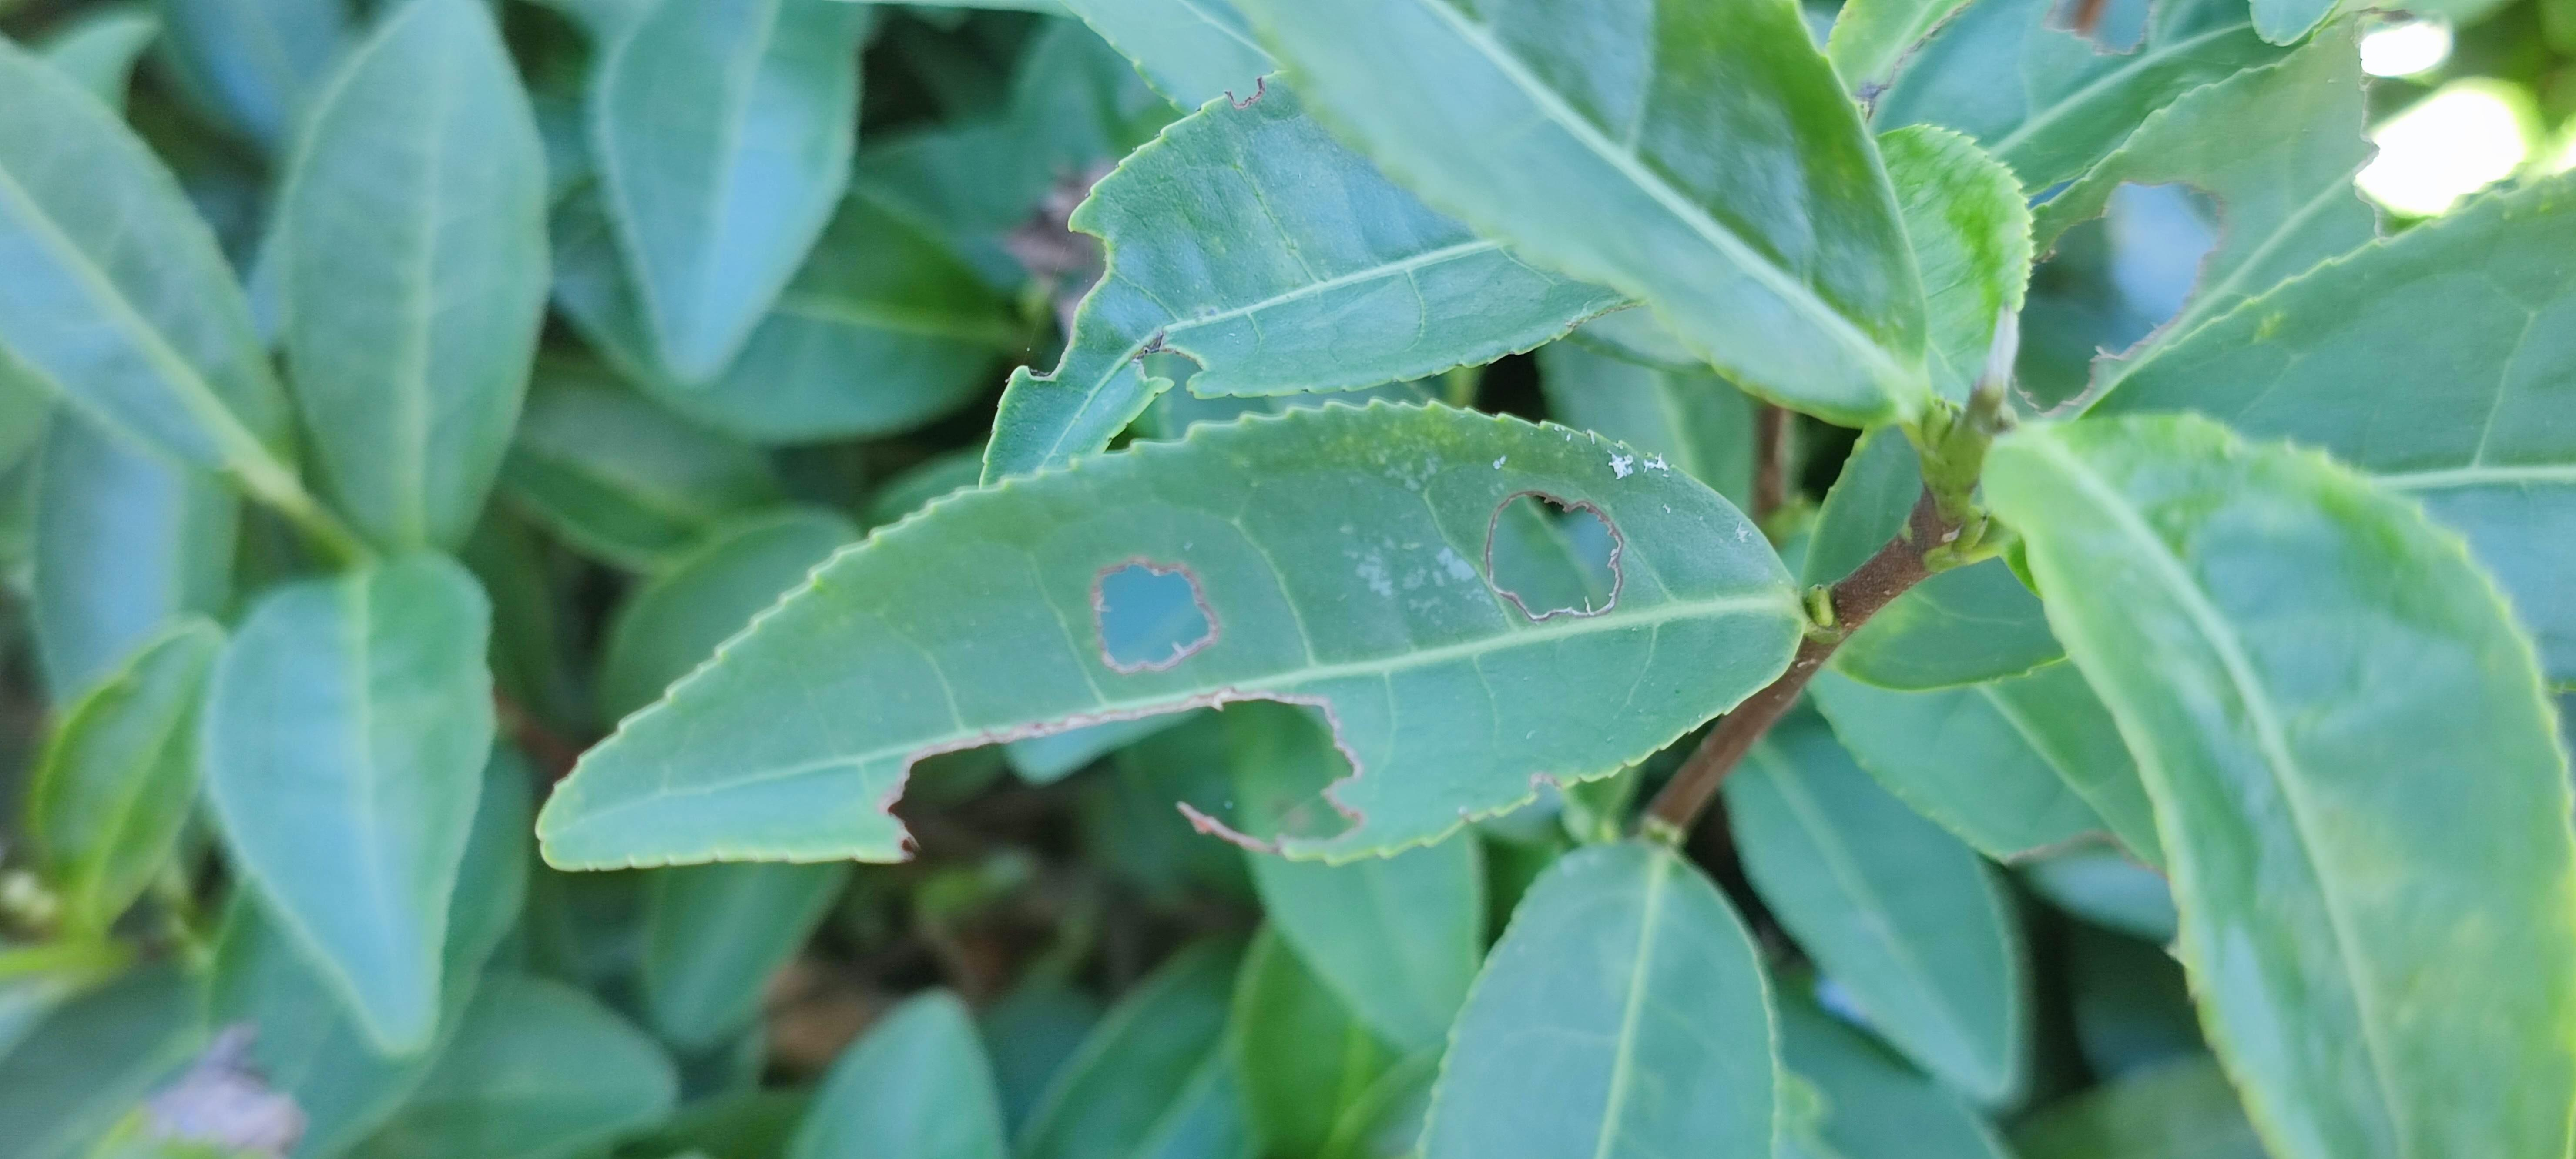chihuo_high: (534, 396, 1812, 873), (977, 67, 1636, 492)
healthy: (1980, 415, 2576, 1157), (199, 545, 516, 1061), (274, 5, 554, 538), (588, 3, 882, 384)
